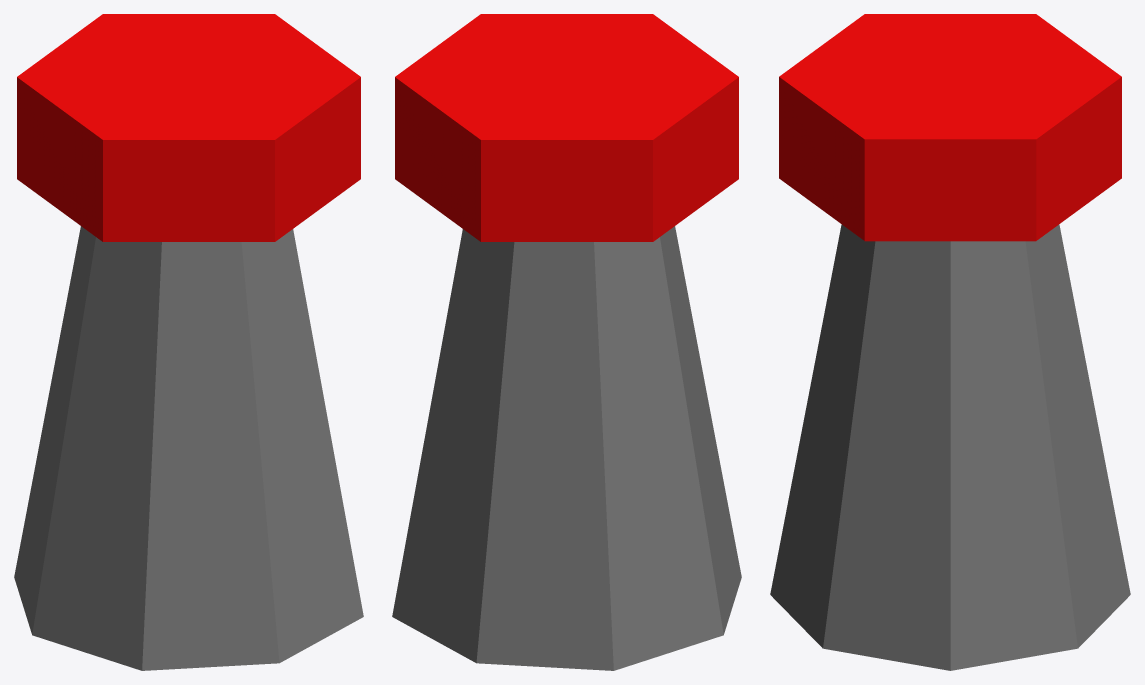
The model's file is tower.fbx.
The picture shows the model from 3 angles, left to right: view 1: azimuth 30°, elevation 25°; view 2: azimuth 150°, elevation 25°; view 3: azimuth 270°, elevation 25°; orthographic projection.
Visible parts, largest first — view 1: Tower; view 2: Tower; view 3: Tower.
Part boxes in pixels (x1=…): Tower: x1=14, y1=14, x2=363, y2=670; Tower: x1=392, y1=14, x2=741, y2=670; Tower: x1=770, y1=14, x2=1130, y2=670.
Bounding box in the file's own units: 80 × 80 × 127.
